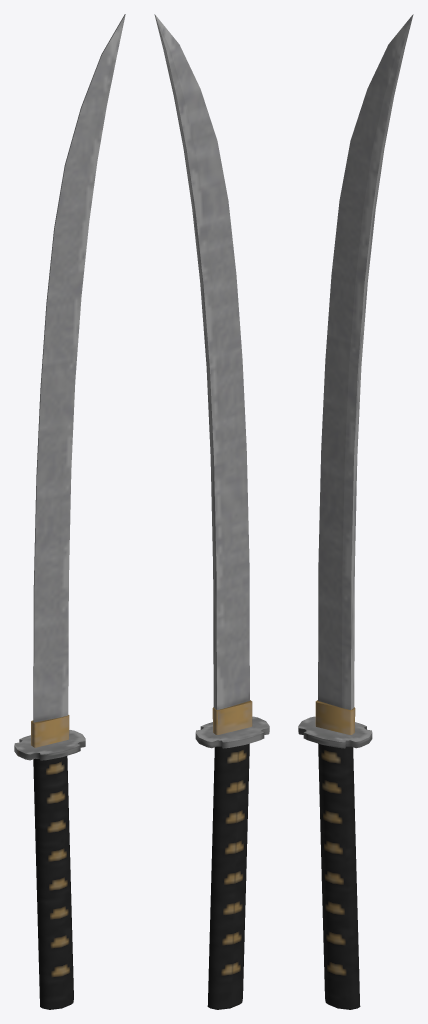
File: katana.obj
3 views of the same model, side by side, from view 1: azimuth 30°, elevation 25°; view 2: azimuth 210°, elevation 25°; view 3: azimuth 330°, elevation 25° (orthographic). The views are drawn at different scales.
Visible parts, largest first — view 1: Katana_blade, Katana_grip, Katana_guard; view 2: Katana_blade, Katana_grip, Katana_guard; view 3: Katana_blade, Katana_grip, Katana_guard.
Boxes of the visible parts, bbox=[...] form: Katana_blade: bbox=[31, 14, 125, 747]; Katana_grip: bbox=[33, 756, 73, 1009]; Katana_guard: bbox=[14, 730, 85, 760]; Katana_blade: bbox=[154, 14, 252, 734]; Katana_grip: bbox=[207, 743, 249, 1009]; Katana_guard: bbox=[195, 716, 269, 748]; Katana_blade: bbox=[315, 14, 413, 734]; Katana_grip: bbox=[318, 743, 360, 1009]; Katana_guard: bbox=[298, 716, 372, 748].
Size of the model in its own units: 0.1895 by 1.64 by 0.0759.
